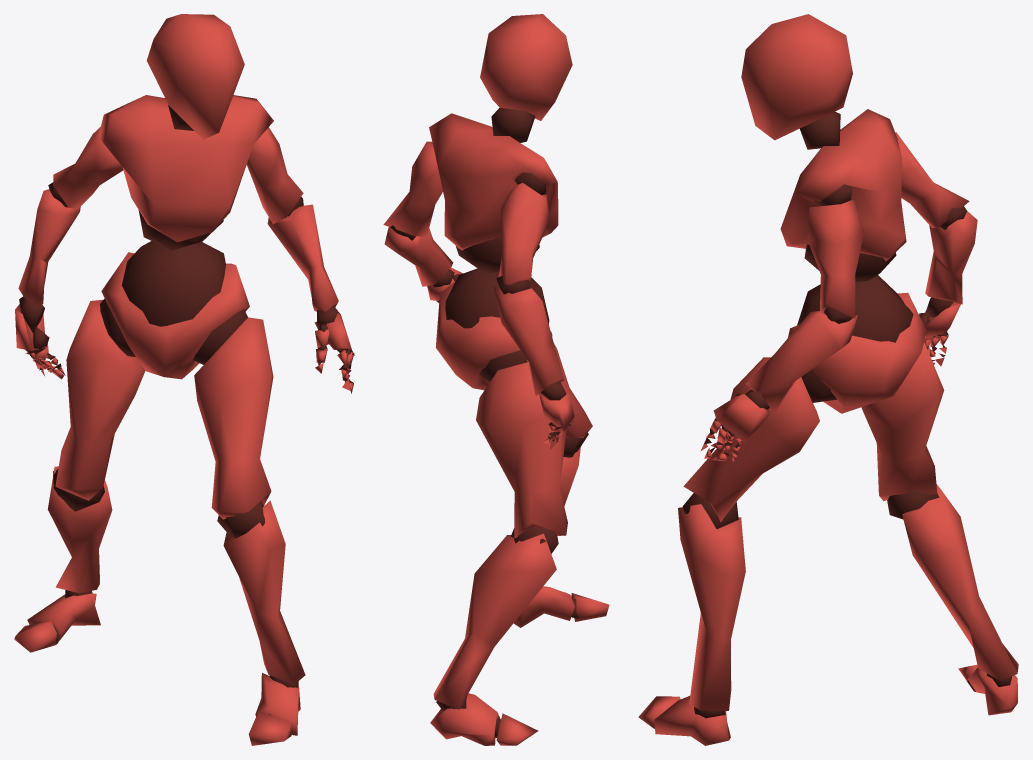
3 views of the same model, side by side, from view 1: azimuth 30°, elevation 25°; view 2: azimuth 150°, elevation 25°; view 3: azimuth 270°, elevation 25° (orthographic). The views are drawn at different scales.
Visible parts, largest first — view 1: Beta_Surface; view 2: Beta_Surface; view 3: Beta_Surface.
Part boxes in pixels (x1,y1,x2,y2): Beta_Surface: [14, 14, 354, 745]; Beta_Surface: [383, 14, 609, 745]; Beta_Surface: [638, 14, 1018, 745].
Bounding box in the file's own units: 5.4 × 14.65 × 7.2.
